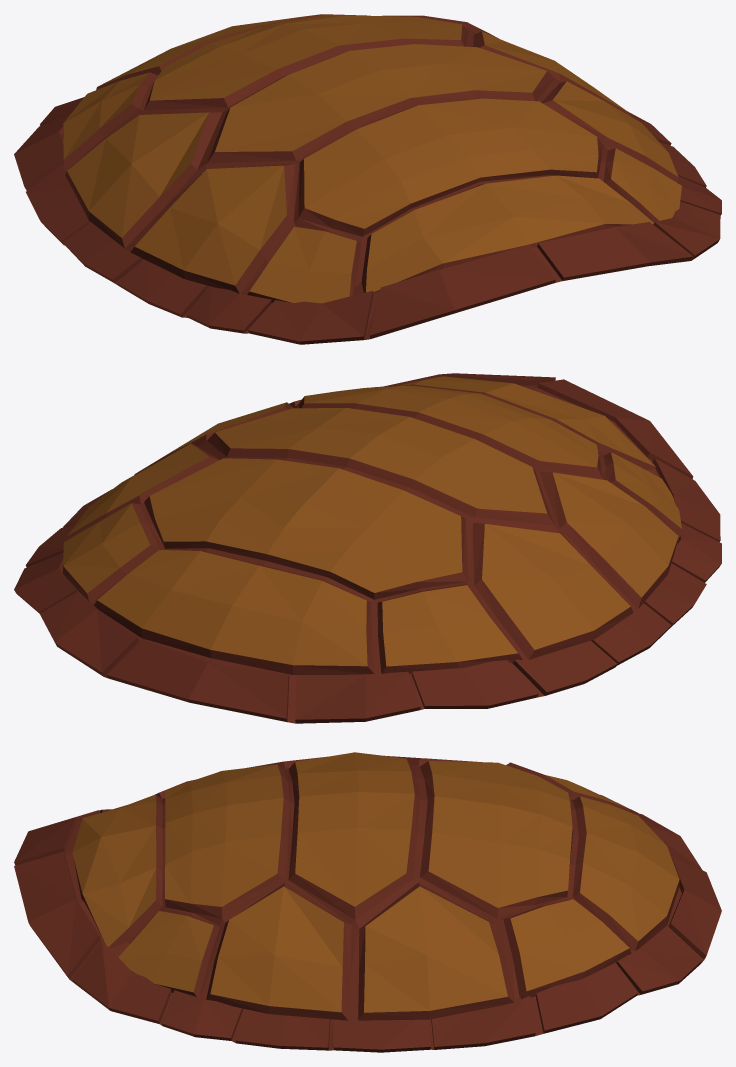
Rendered from Shell.fbx.
The picture shows the model from 3 angles, top to bottom: view 1: azimuth 30°, elevation 25°; view 2: azimuth 150°, elevation 25°; view 3: azimuth 270°, elevation 25°; orthographic projection. The views are drawn at different scales.
Parts seen in each view (by area): view 1: Node.001; view 2: Node.001; view 3: Node.001.
Part boxes in pixels (<box>): Node.001: <box>14,14,721,344</box>; Node.001: <box>14,373,721,723</box>; Node.001: <box>14,752,721,1052</box>.
Size of the model in its own units: 1449 by 333 by 1640.
